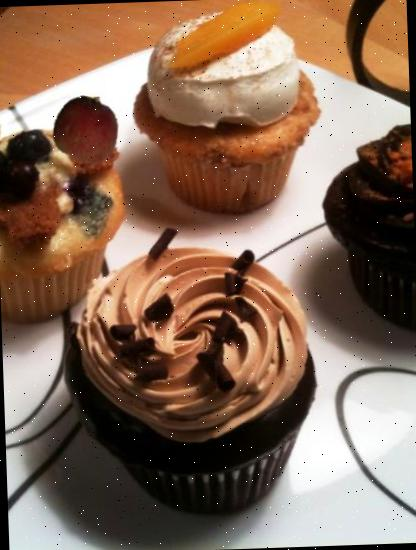Peach: (51, 95, 120, 164)
